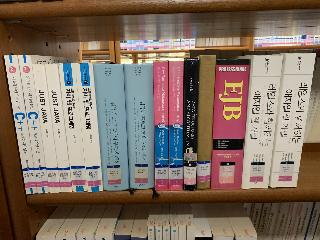book-spine: (267, 49, 316, 191), (237, 51, 284, 192), (208, 57, 250, 191), (4, 54, 38, 195), (93, 63, 129, 192), (18, 53, 50, 194), (32, 63, 61, 194), (124, 64, 154, 190), (75, 62, 103, 193), (45, 63, 73, 193), (59, 63, 87, 193), (194, 55, 216, 190), (183, 57, 200, 191), (168, 61, 184, 191), (153, 61, 169, 190)
